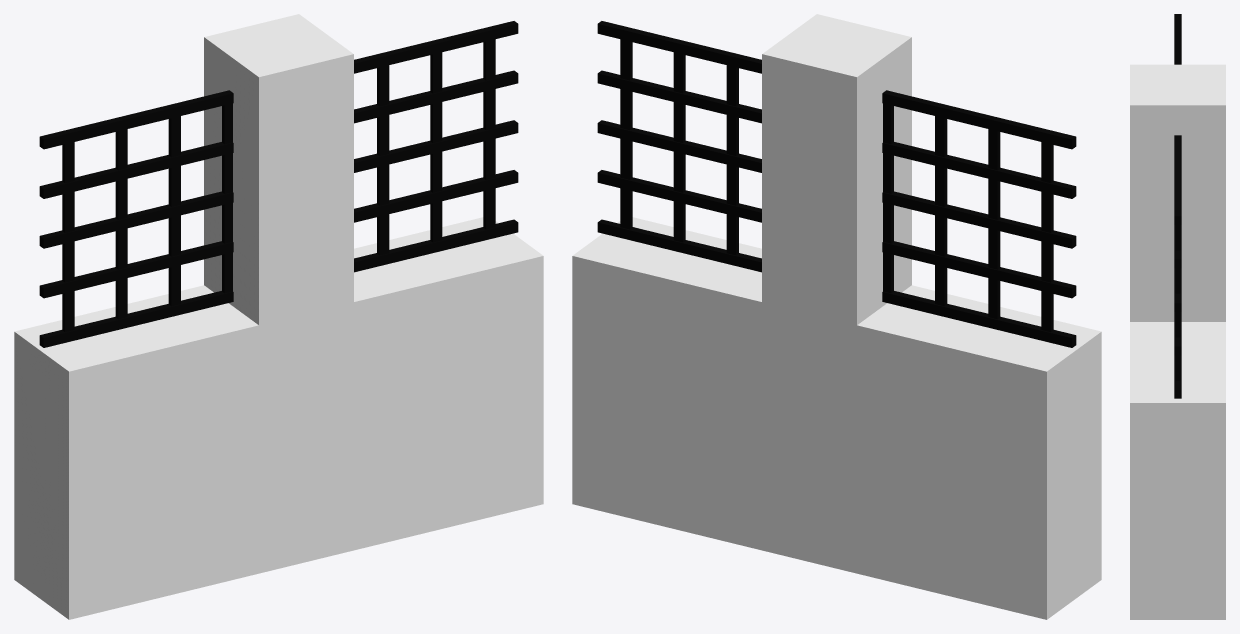
Rendered from Fence_07.fbx.
3 views of the same model, side by side, from view 1: azimuth 30°, elevation 25°; view 2: azimuth 150°, elevation 25°; view 3: azimuth 270°, elevation 25° (orthographic). The views are drawn at different scales.
Visible parts, largest first — view 1: Fence_07; view 2: Fence_07; view 3: Fence_07.
Part boxes in pixels (box(x1,y1,x2,y2)): Fence_07: box(14, 14, 543, 619); Fence_07: box(572, 14, 1101, 619); Fence_07: box(1130, 14, 1225, 619).
Bounding box in the file's own units: 200 × 200 × 40.
